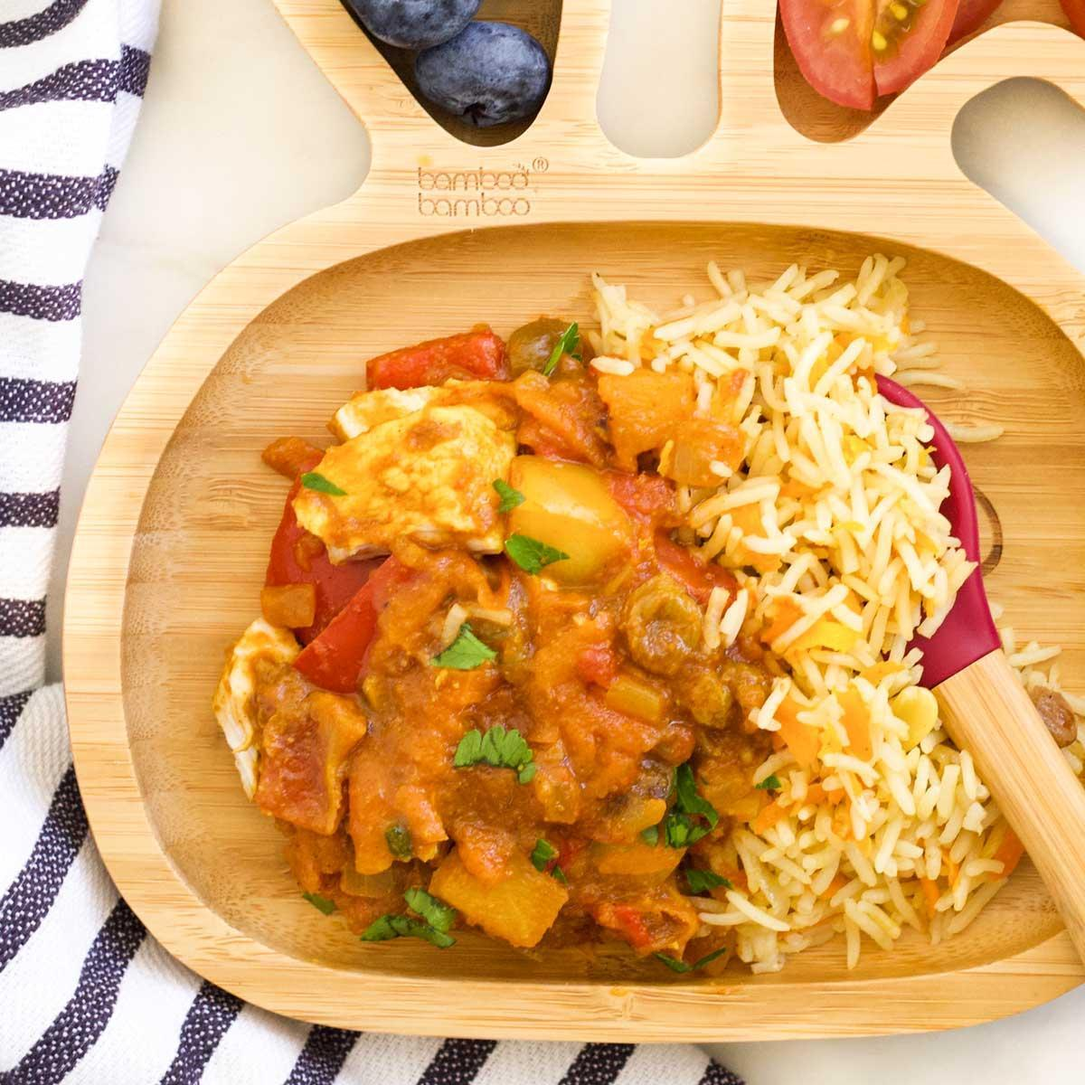chicken: (268, 384, 702, 901)
rice: (639, 312, 946, 958)
